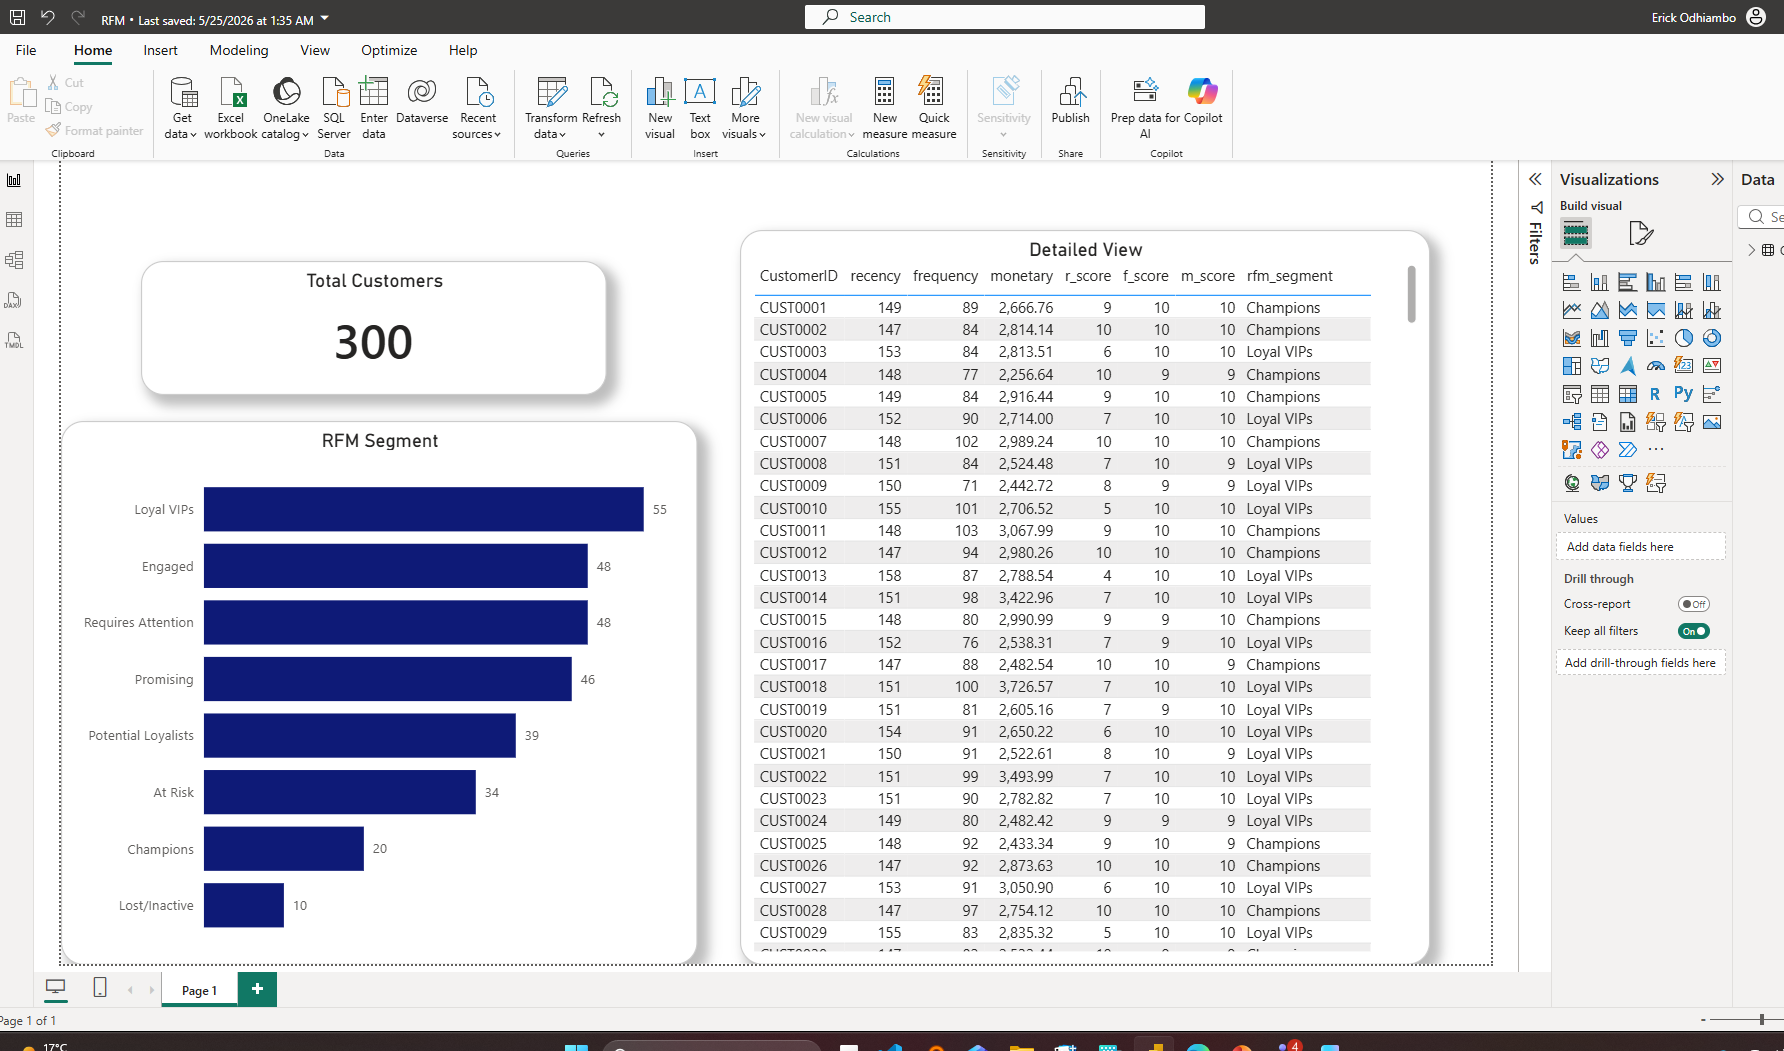

This screenshot's page, from the dashboard's own definition file:
{"tool":"powerbi","page":{"name":"Total_Customers_RFM_Segmentation","canvas":[1280,720],"ordinal":0},"visuals":[{"type":"cardVisual","title":"Total Customers","fields":{"Data":["Query1.total_customers"]},"box":[71.9,90.3,416.6,119.8],"z":0},{"type":"clusteredBarChart","title":"RFM Segment","fields":{"Category":["Query1.rfm_segment"],"Y":["CountNonNull(Query1.CustomerID)"]},"box":[0,234.1,569.6,486.7],"z":1000},{"type":"tableEx","title":"Detailed View","fields":{"Values":["Query1.CustomerID","Query1.recency","Query1.frequency","Query1.monetary","Query1.r_score","Query1.f_score","Query1.m_score","Query1.rfm_segment"]},"box":[608.4,62.7,617.6,658.1],"z":2000}]}

Visuals, with their boxes on the page's 1280x720 design canvas (x1, y1, x2, y2). These are canvas units, not pixel positions in the 1784x1051 screenshot, which may show the page scaled, cropped or inside an application window:
"Total Customers" cardVisual: l=72, t=90, r=488, b=210
"RFM Segment" clusteredBarChart: l=0, t=234, r=570, b=721
"Detailed View" tableEx: l=608, t=63, r=1226, b=721
